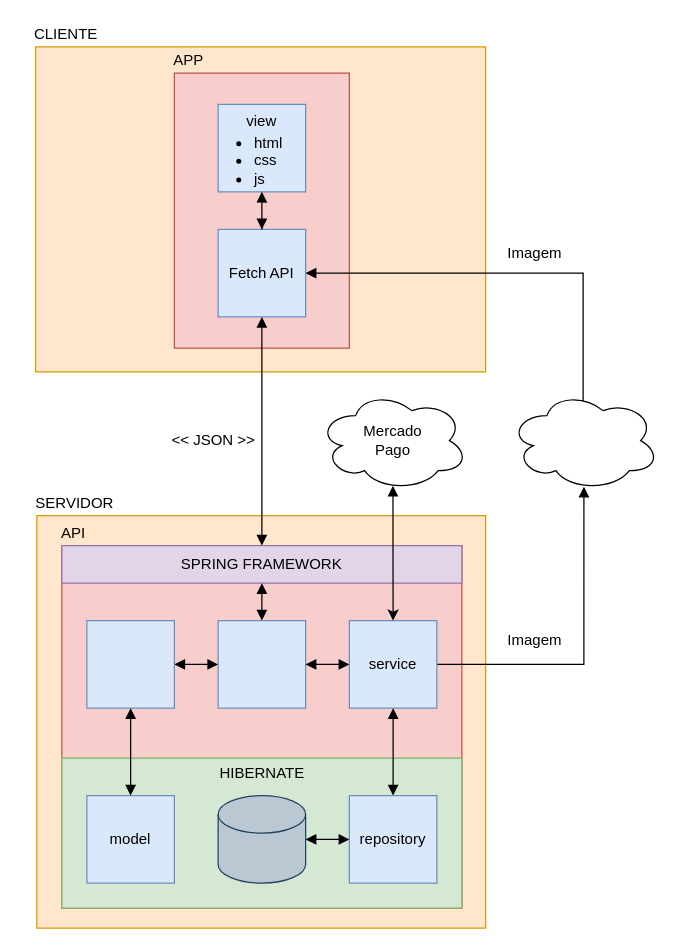
Image size: 681x950. Some labels were removed from this diagram. Each missing label, with the centre of its shape:
AWS: point 583,440
Banco de Dados: point 261,838
controller: point 261,663
dto: point 130,663
